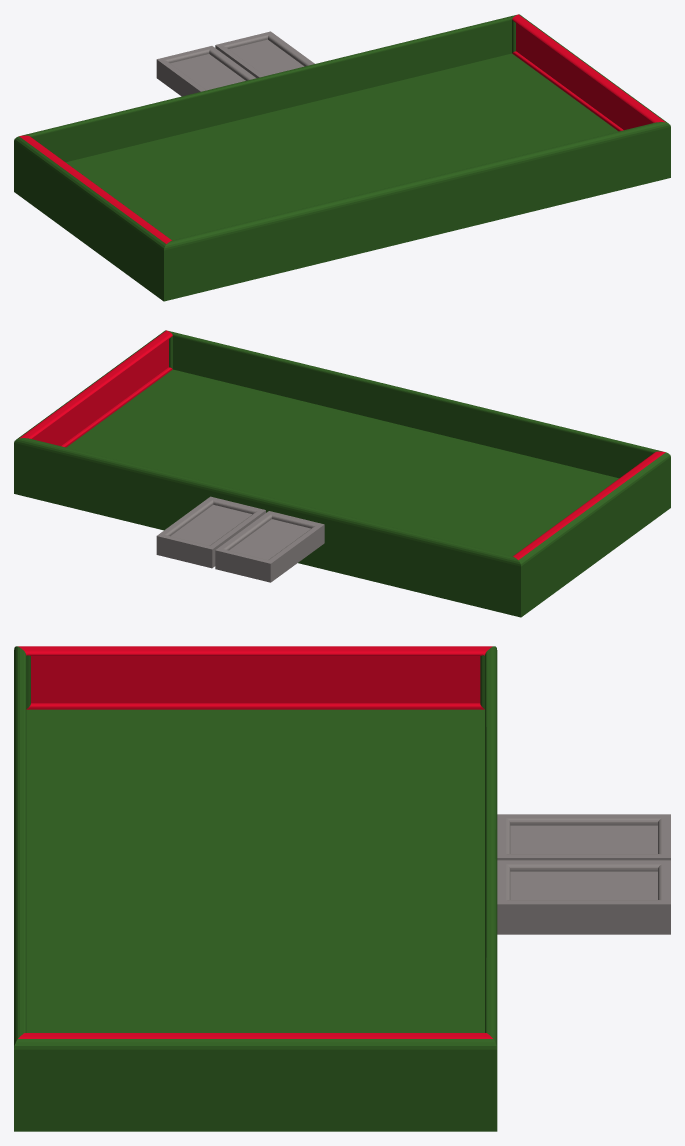
The model's file is Cancha Pong.fbx.
3 renders of one model, top to bottom at view 1: azimuth 30°, elevation 25°; view 2: azimuth 150°, elevation 25°; view 3: azimuth 270°, elevation 25°, orthographic. The views are drawn at different scales.
Parts seen in each view (by area): view 1: Cube; view 2: Cube; view 3: Cube.
Boxes of the visible parts, x1=… form: Cube: x1=14, y1=14, x2=670, y2=301; Cube: x1=14, y1=330, x2=670, y2=617; Cube: x1=14, y1=646, x2=670, y2=1131.
Size of the model in its own units: 2498 by 263 by 1738.
